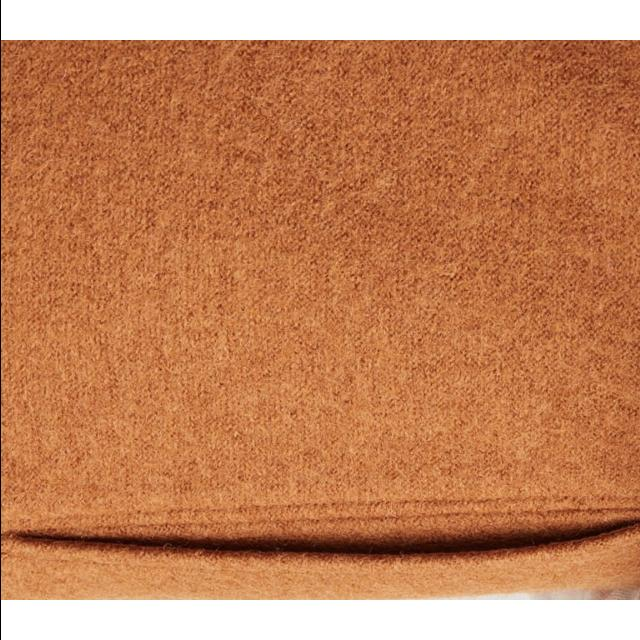wool: (0, 40, 640, 600)
